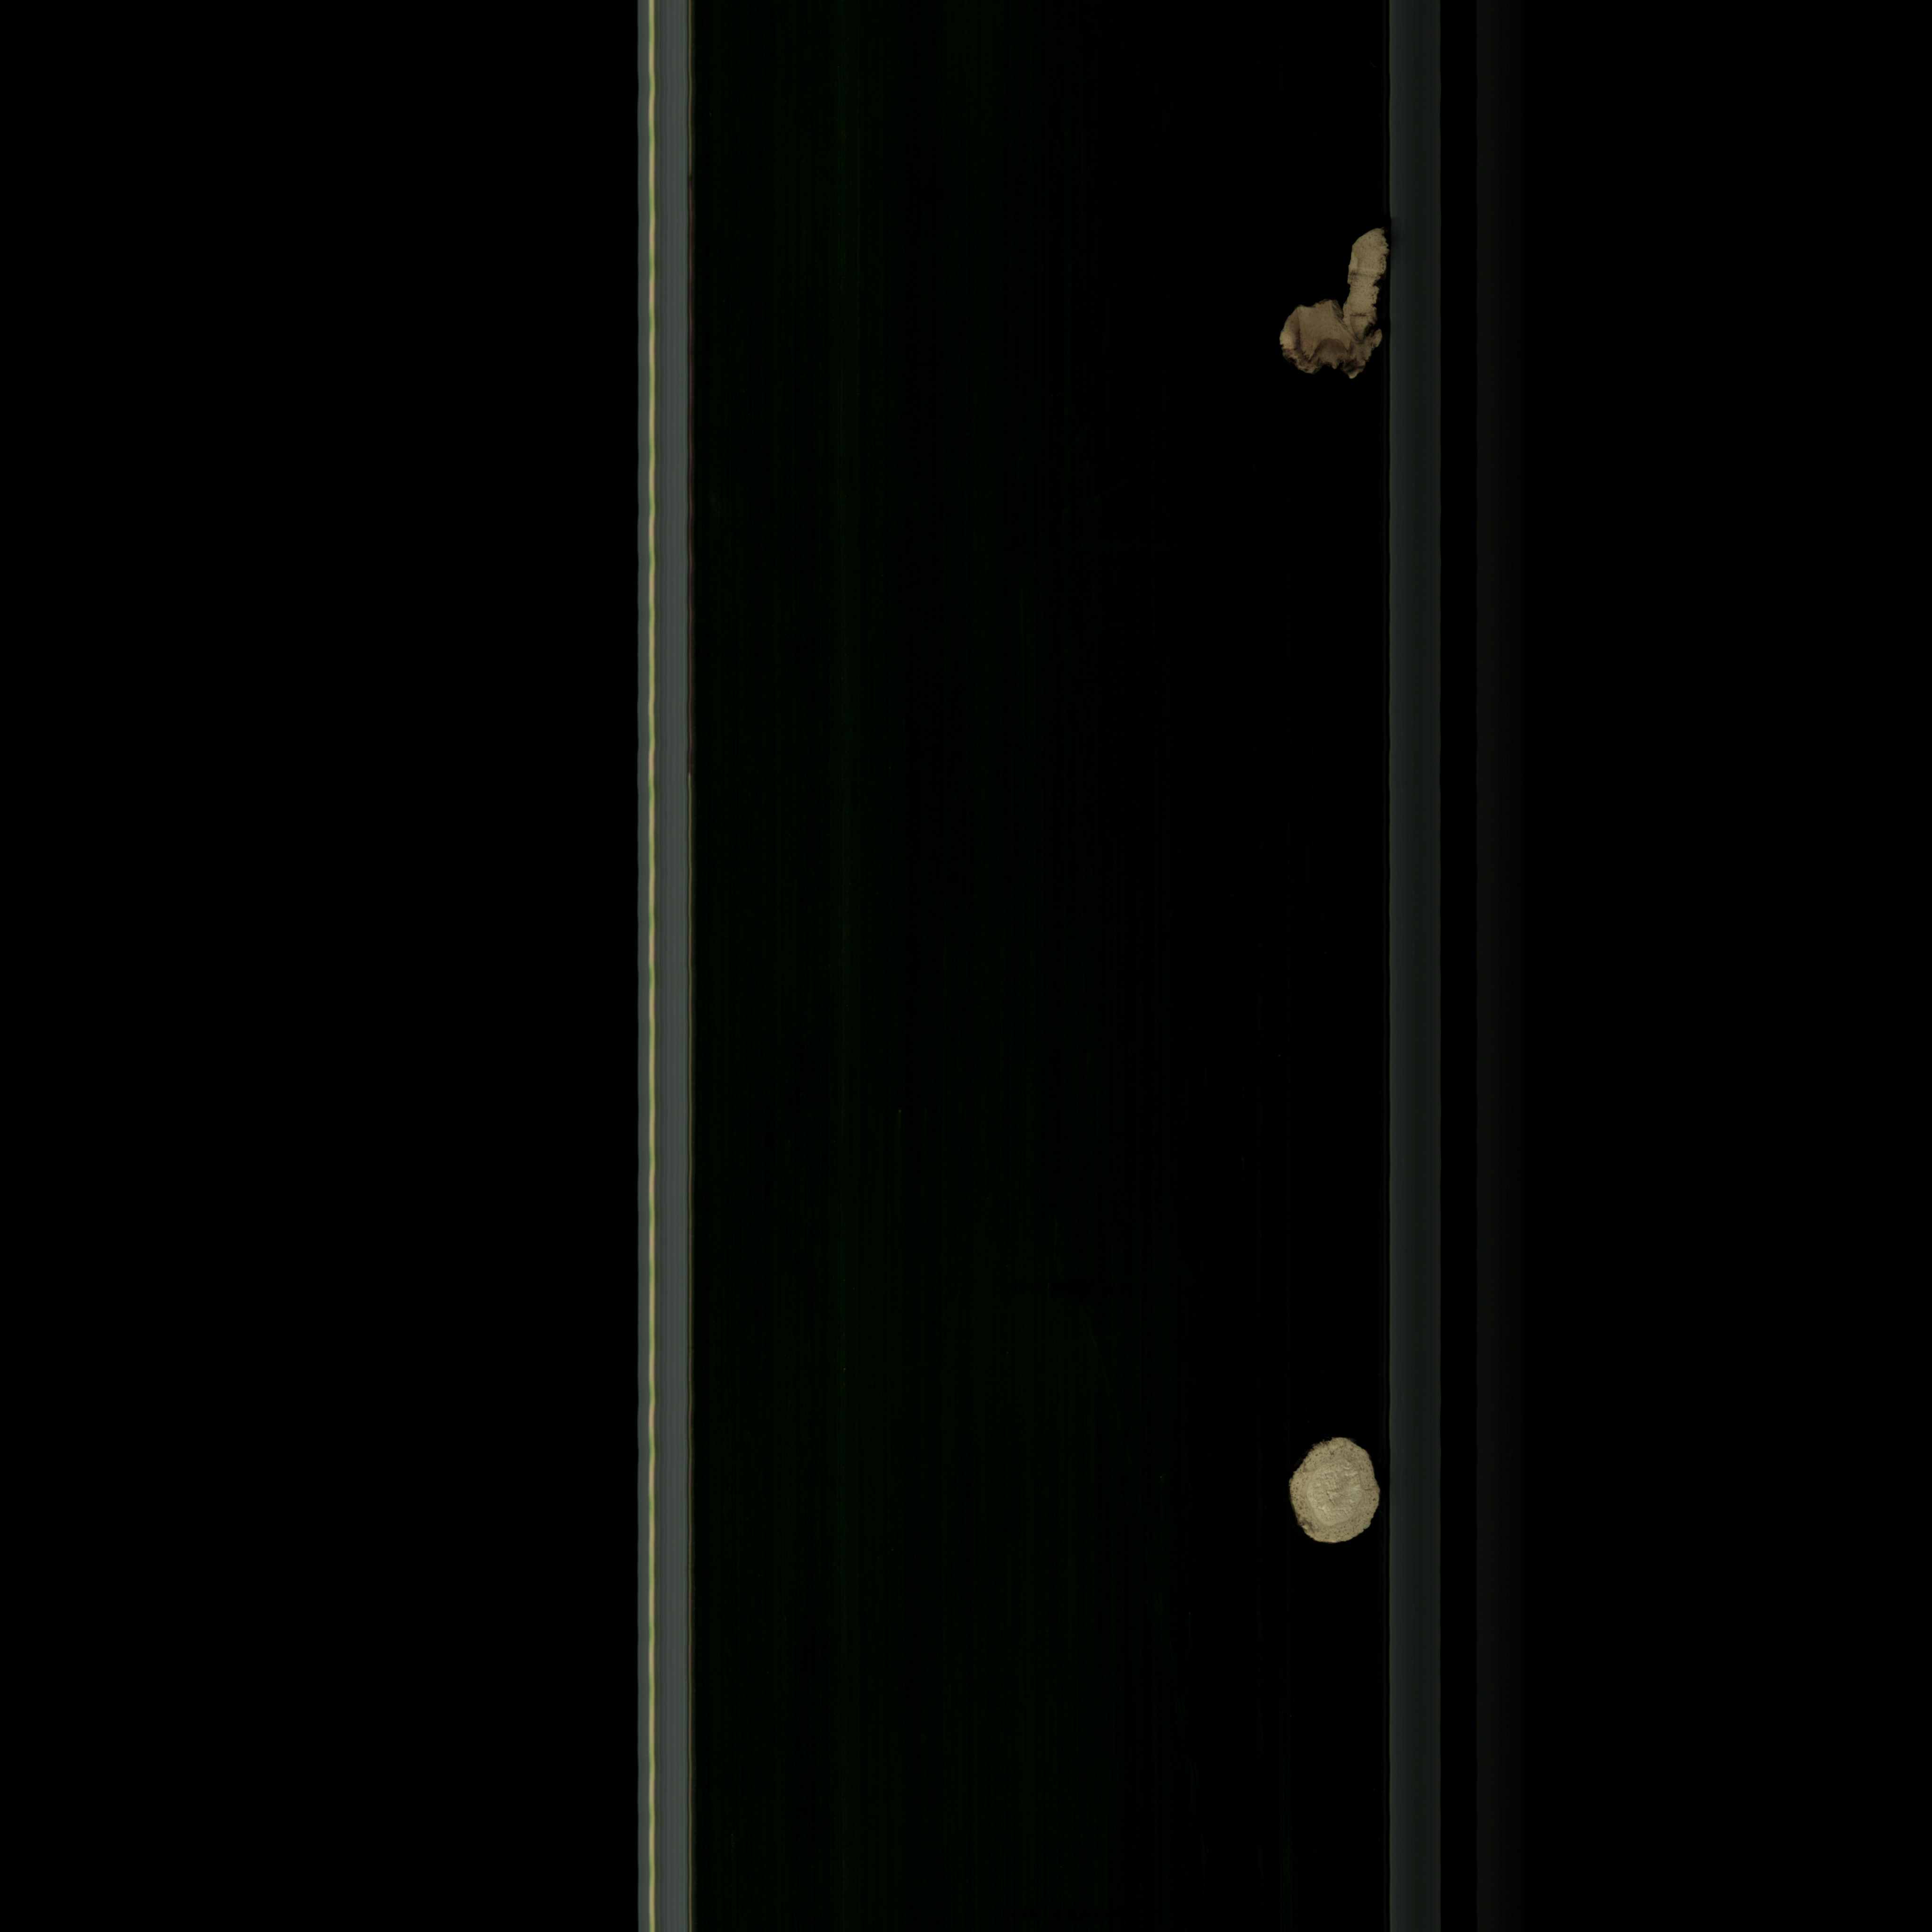moldy: (1267, 221, 1391, 391)
